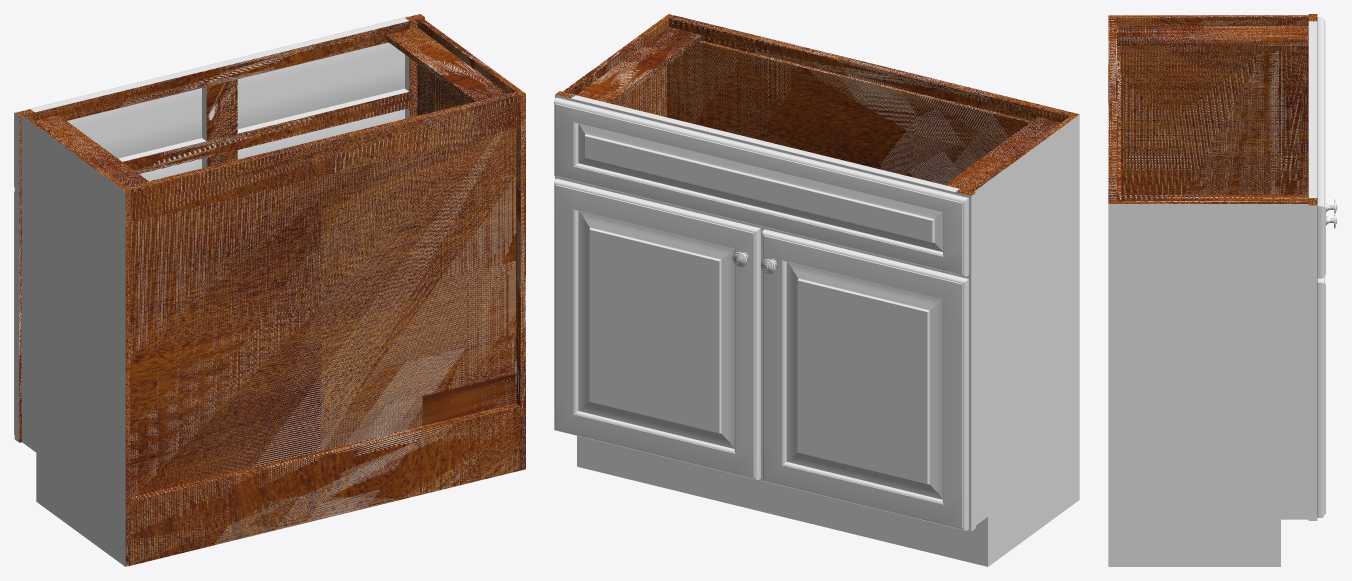
3 renders of one model, left to right at view 1: azimuth 30°, elevation 25°; view 2: azimuth 150°, elevation 25°; view 3: azimuth 270°, elevation 25°, orthographic. The views are drawn at different scales.
Visible parts, largest first — view 1: mesh4_mesh4-geometry, mesh7_mesh7-geometry, mesh13_mesh13-geometry, mesh3_mesh3-geometry, mesh5_mesh5-geometry, mesh23_mesh23-geometry, mesh10_mesh10-geometry, mesh27_mesh27-geometry, mesh6_mesh6-geometry, mesh8_mesh8-geometry, mesh2_mesh2-geometry, mesh15_mesh15-geometry (+6 smaller); view 2: mesh7_mesh7-geometry, mesh4_mesh4-geometry, mesh37_mesh37-geometry, mesh48_mesh48-geometry, mesh14_mesh14-geometry, mesh22_mesh22-geometry, mesh23_mesh23-geometry, mesh46_mesh46-geometry, mesh35_mesh35-geometry, mesh3_mesh3-geometry, mesh26_mesh26-geometry, mesh45_mesh45-geometry (+26 smaller); view 3: mesh10_mesh10-geometry, mesh7_mesh7-geometry, mesh9_mesh9-geometry, mesh11_mesh11-geometry, mesh6_mesh6-geometry, mesh16_mesh16-geometry, mesh2_mesh2-geometry, mesh5_mesh5-geometry, mesh3_mesh3-geometry, mesh15_mesh15-geometry, mesh34_mesh34-geometry, mesh22_mesh22-geometry (+4 smaller).
Part boxes in pixels (box(x1,y1,x2,y2)): mesh4_mesh4-geometry: box(130, 129, 516, 497); mesh7_mesh7-geometry: box(36, 125, 130, 517); mesh13_mesh13-geometry: box(130, 403, 520, 565); mesh3_mesh3-geometry: box(126, 92, 520, 222); mesh5_mesh5-geometry: box(30, 18, 409, 173); mesh23_mesh23-geometry: box(96, 71, 384, 158); mesh10_mesh10-geometry: box(431, 28, 525, 421); mesh27_mesh27-geometry: box(77, 53, 384, 141); mesh6_mesh6-geometry: box(22, 114, 40, 452); mesh8_mesh8-geometry: box(36, 453, 130, 566); mesh2_mesh2-geometry: box(14, 14, 424, 442); mesh15_mesh15-geometry: box(386, 27, 507, 102); mesh7_mesh7-geometry: box(983, 113, 1079, 516); mesh4_mesh4-geometry: box(667, 40, 1031, 184); mesh37_mesh37-geometry: box(591, 231, 717, 431); mesh48_mesh48-geometry: box(799, 282, 925, 481); mesh14_mesh14-geometry: box(582, 437, 982, 565); mesh22_mesh22-geometry: box(587, 106, 933, 221); mesh23_mesh23-geometry: box(587, 157, 932, 267); mesh46_mesh46-geometry: box(926, 313, 968, 490); mesh35_mesh35-geometry: box(718, 262, 760, 440); mesh3_mesh3-geometry: box(669, 15, 1073, 122); mesh26_mesh26-geometry: box(587, 138, 929, 240); mesh45_mesh45-geometry: box(762, 272, 799, 450); mesh10_mesh10-geometry: box(1108, 201, 1280, 519); mesh7_mesh7-geometry: box(1108, 15, 1280, 194); mesh9_mesh9-geometry: box(1281, 201, 1308, 519); mesh11_mesh11-geometry: box(1108, 519, 1280, 566); mesh6_mesh6-geometry: box(1281, 15, 1308, 194); mesh16_mesh16-geometry: box(1117, 25, 1308, 45); mesh2_mesh2-geometry: box(1308, 14, 1317, 520); mesh5_mesh5-geometry: box(1308, 21, 1317, 197); mesh3_mesh3-geometry: box(1108, 17, 1116, 201); mesh15_mesh15-geometry: box(1117, 194, 1308, 201); mesh34_mesh34-geometry: box(1317, 319, 1325, 479); mesh22_mesh22-geometry: box(1317, 33, 1325, 192).
Size of the model in its own units: 0.7003 by 0.6195 by 0.3546.
